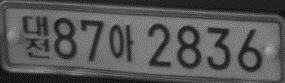2: (147, 23, 172, 67)
3: (206, 26, 231, 71)
6: (237, 28, 263, 72)
7: (79, 19, 104, 60)
8: (176, 24, 202, 68), (53, 16, 76, 58)
대전_V: (22, 15, 50, 58)
아: (108, 24, 134, 62)
